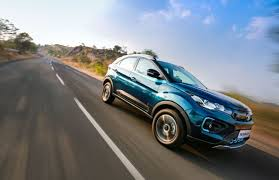Tata Nexon: (102, 52, 255, 156)
